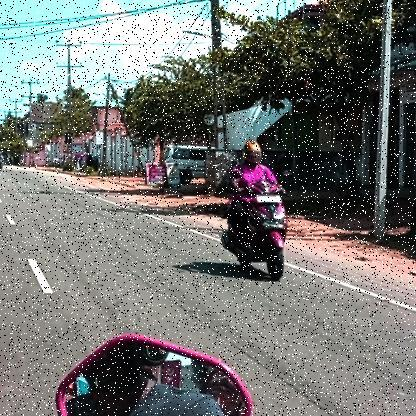motorcycle: (216, 179, 295, 287)
